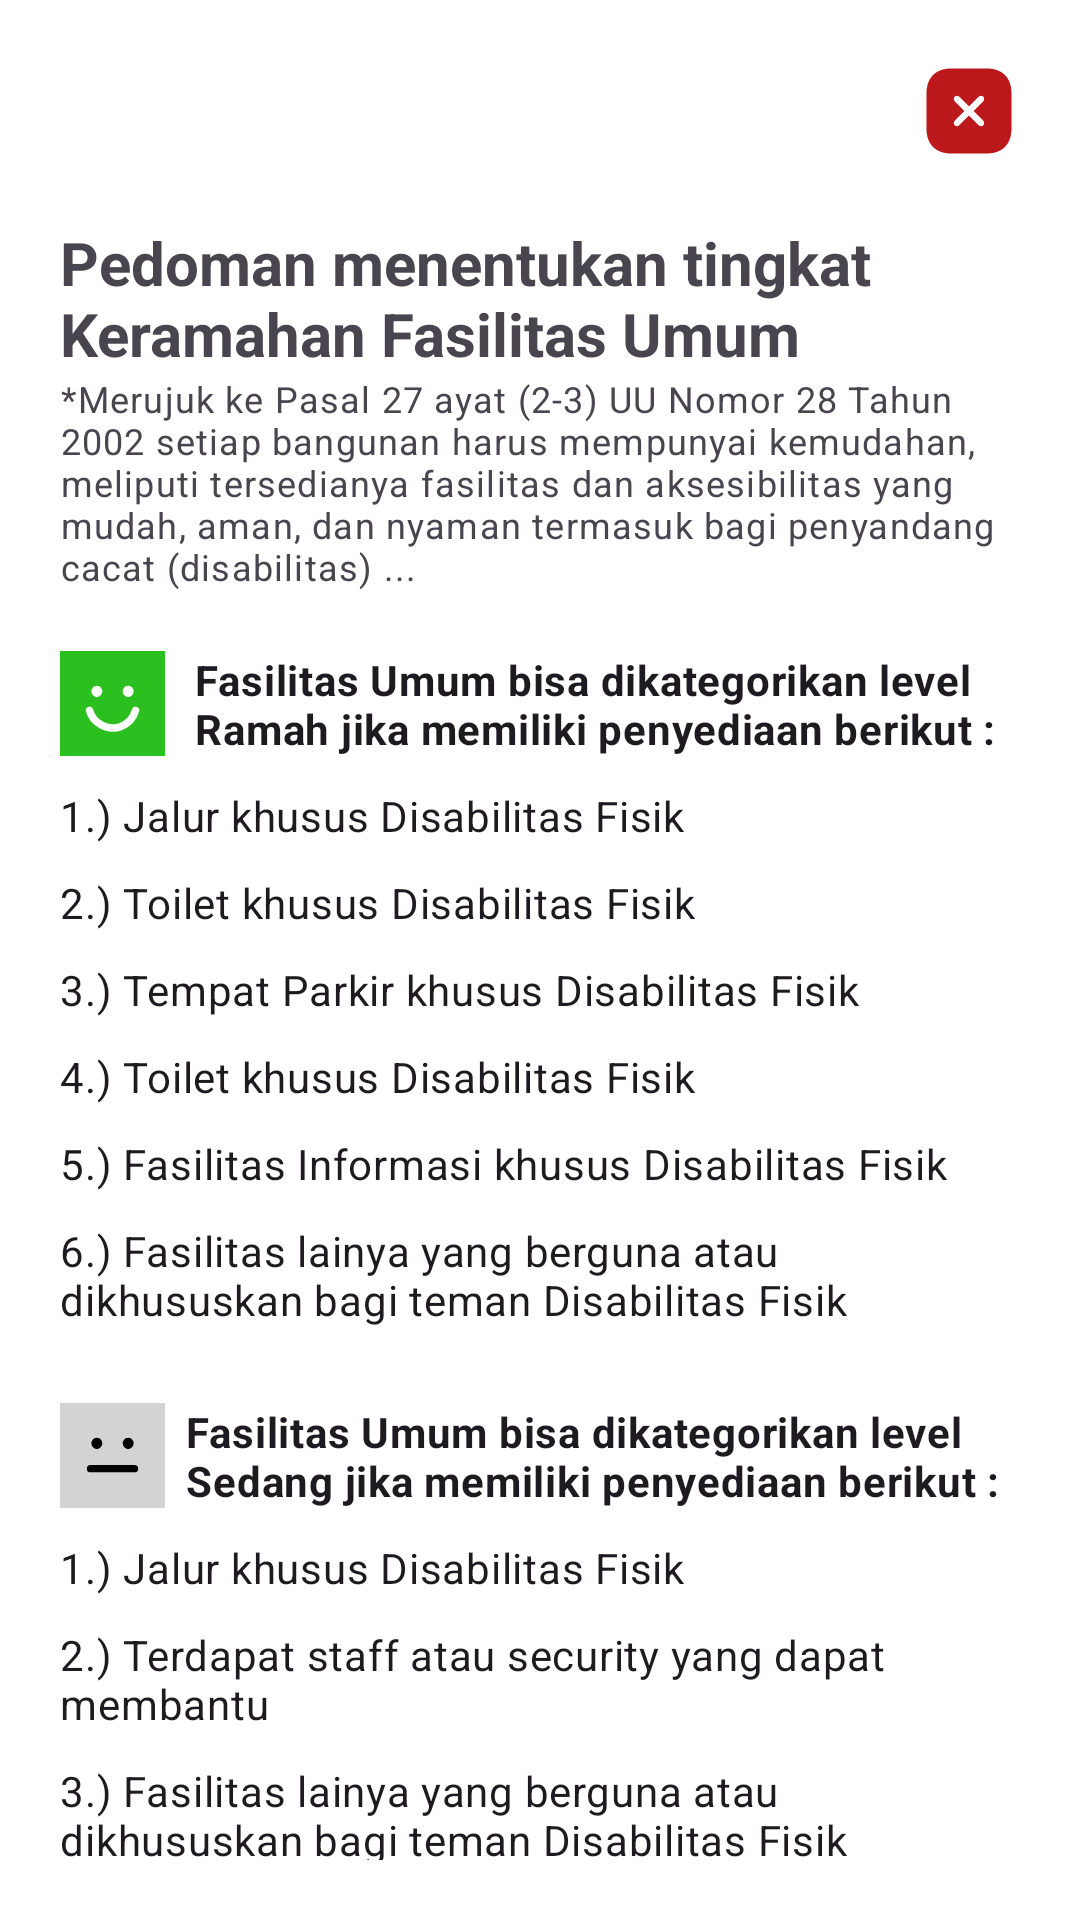

Icon bounding boxes for this 1080px x 1920px phone screenshot, format (x1, y1, x2, y2):
close: (926, 68, 1012, 154)
smile: (60, 651, 165, 756)
